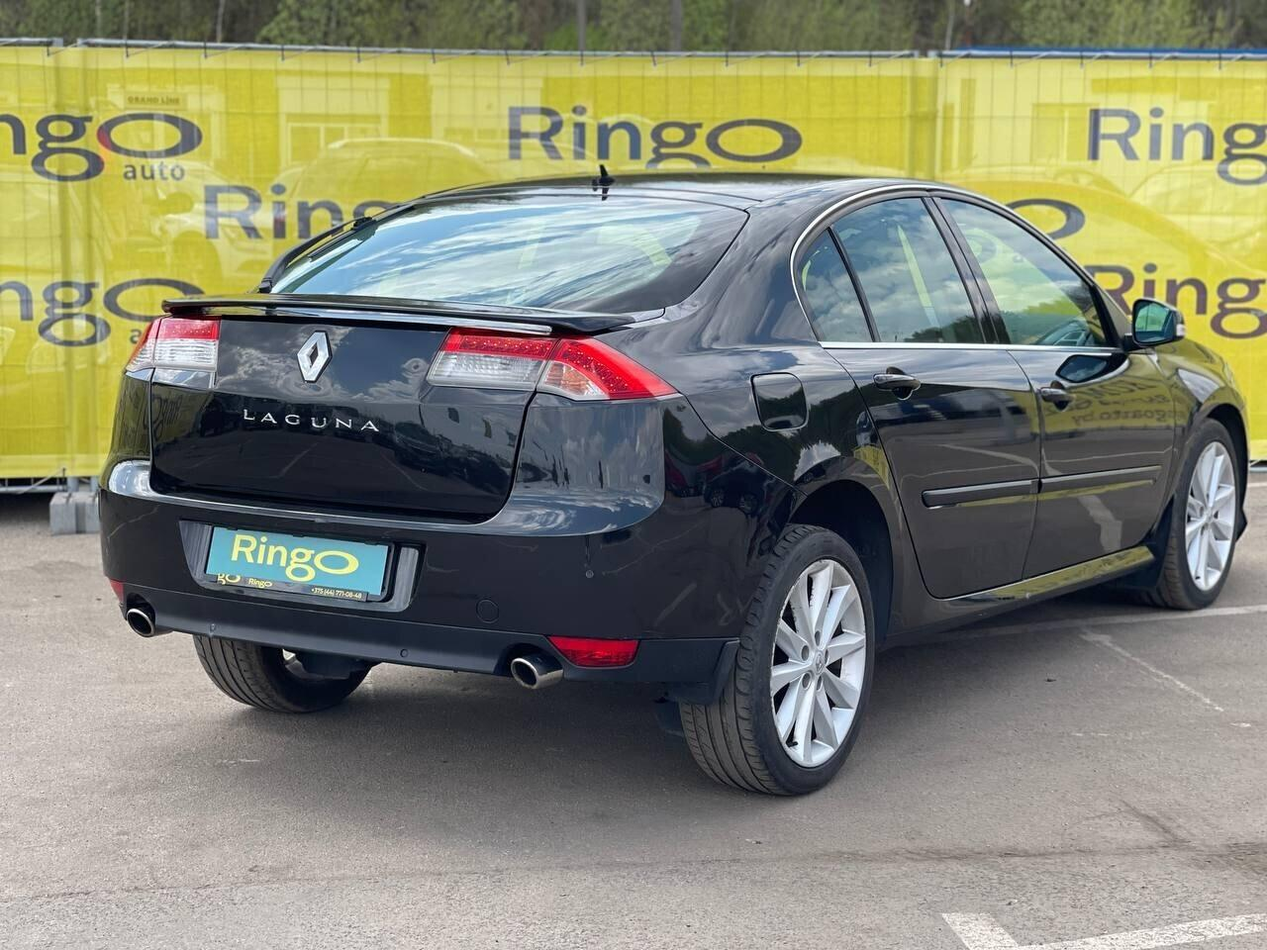Laguna_2007-2011: (99, 165, 1252, 795)
